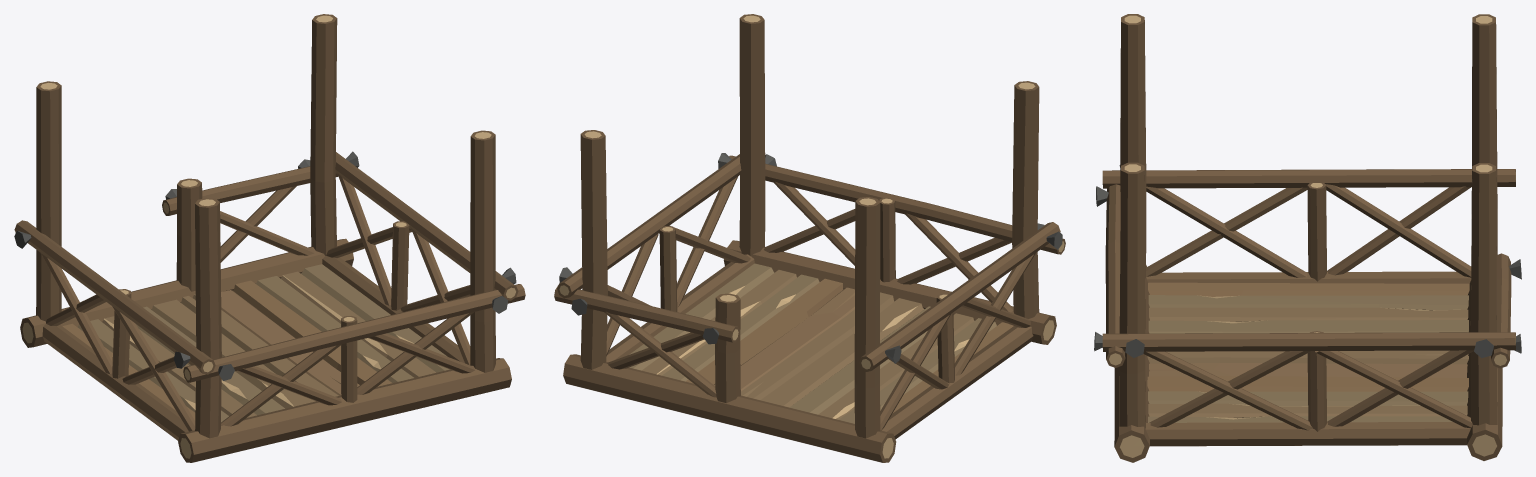
Rendered from rpgpp_ag_tower_01_platform_02a.fbx.
3 renders of one model, left to right at view 1: azimuth 30°, elevation 25°; view 2: azimuth 150°, elevation 25°; view 3: azimuth 270°, elevation 25°, orthographic. The views are drawn at different scales.
Visible parts, largest first — view 1: rpgpp_ag_tower_01_platform_02a; view 2: rpgpp_ag_tower_01_platform_02a; view 3: rpgpp_ag_tower_01_platform_02a.
Boxes of the visible parts, box(x1,y1,x2,y2) form: rpgpp_ag_tower_01_platform_02a: box(14, 14, 525, 462); rpgpp_ag_tower_01_platform_02a: box(554, 14, 1065, 462); rpgpp_ag_tower_01_platform_02a: box(1094, 14, 1521, 462).
Size of the model in its own units: 4.84 by 3.52 by 4.81.
